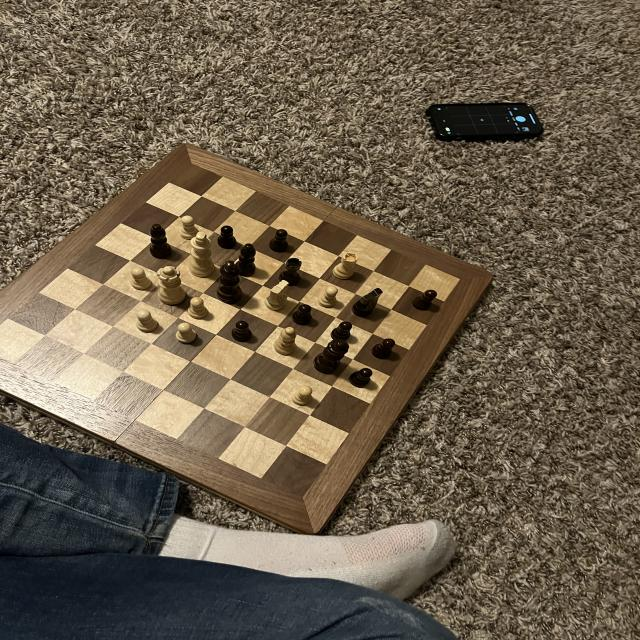bishop: (232, 241, 264, 279), (147, 223, 176, 262)
black-bishop: (212, 260, 248, 306)
black-king: (349, 286, 384, 321)
black-knight: (369, 335, 397, 363), (266, 227, 294, 255), (408, 287, 438, 312), (326, 320, 356, 343), (290, 302, 317, 327), (348, 366, 377, 389), (217, 223, 240, 252), (230, 319, 256, 343)
black-pawn: (310, 335, 350, 377)
black-queen: (276, 255, 306, 288)
black-rook: (270, 325, 300, 358)
white-bishop: (185, 230, 218, 279)
white-king: (264, 278, 292, 312)
white-knight: (288, 382, 319, 413), (176, 213, 204, 243), (133, 307, 161, 336), (170, 320, 200, 346), (126, 266, 154, 293), (186, 294, 213, 322), (314, 284, 342, 310)
white-pawn: (152, 264, 192, 308)
white-queen: (331, 252, 363, 284)
